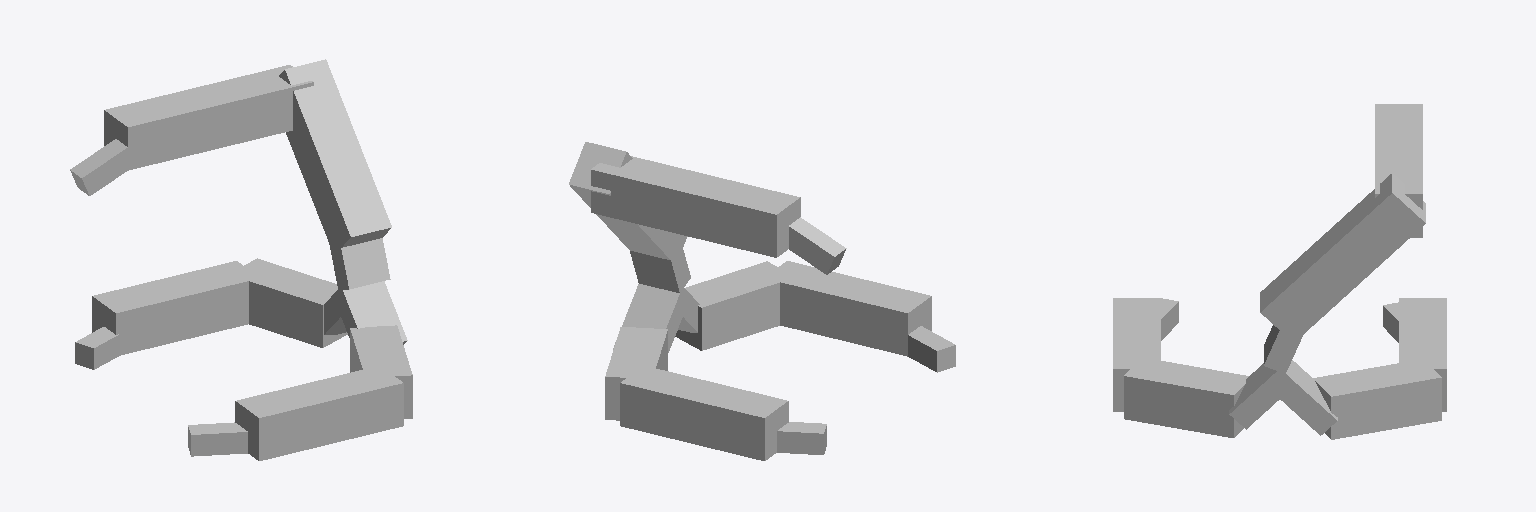
The model's file is kaghunie_kanieki_s_animatsiiei_1.obj.
The picture shows the model from 3 angles: view 1: azimuth 30°, elevation 25°; view 2: azimuth 150°, elevation 25°; view 3: azimuth 270°, elevation 25°; orthographic projection.
Parts seen in each view (by area): view 1: cube; view 2: cube; view 3: cube.
Boxes of the visible parts, <box> form: cube: <box>70,59,412,460</box>; cube: <box>569,142,955,460</box>; cube: <box>1113,104,1446,439</box>.
Bounding box in the file's own units: 0.7644 × 0.721 × 0.875.